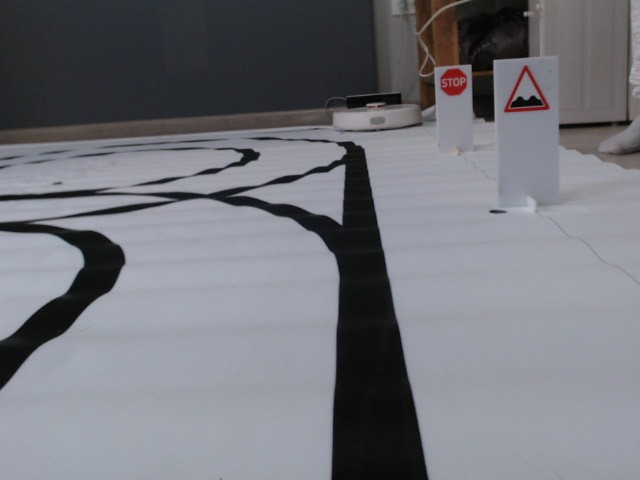Nerov: (502, 64, 550, 113)
